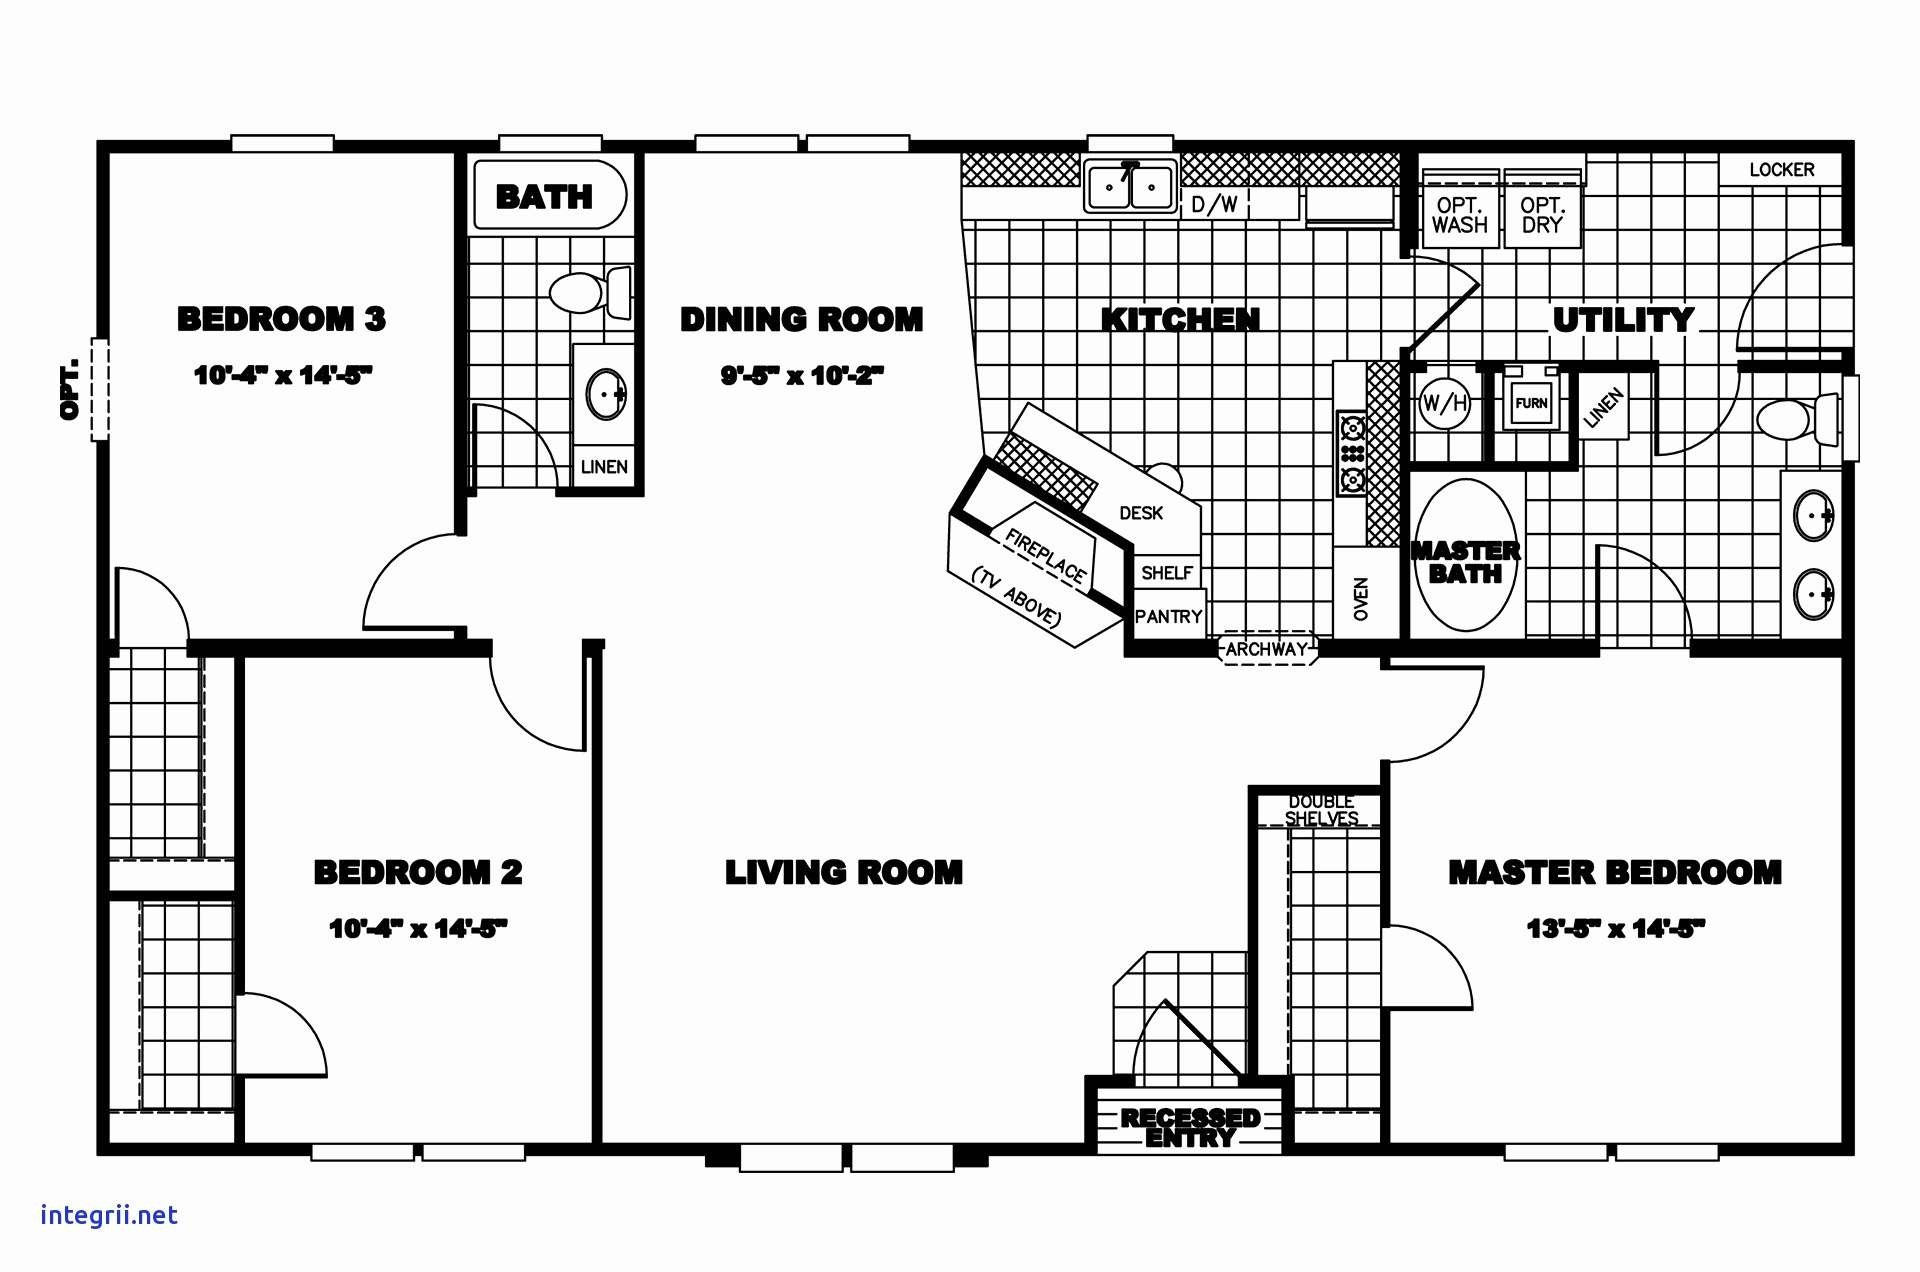door: (1394, 662, 1497, 779), (1728, 248, 1832, 356), (349, 527, 446, 635), (251, 987, 346, 1090), (1585, 539, 1696, 627), (1398, 924, 1491, 1018), (492, 674, 587, 757), (1127, 980, 1219, 1063), (473, 385, 565, 468), (1640, 382, 1743, 457), (114, 551, 204, 635), (1422, 248, 1491, 351)
